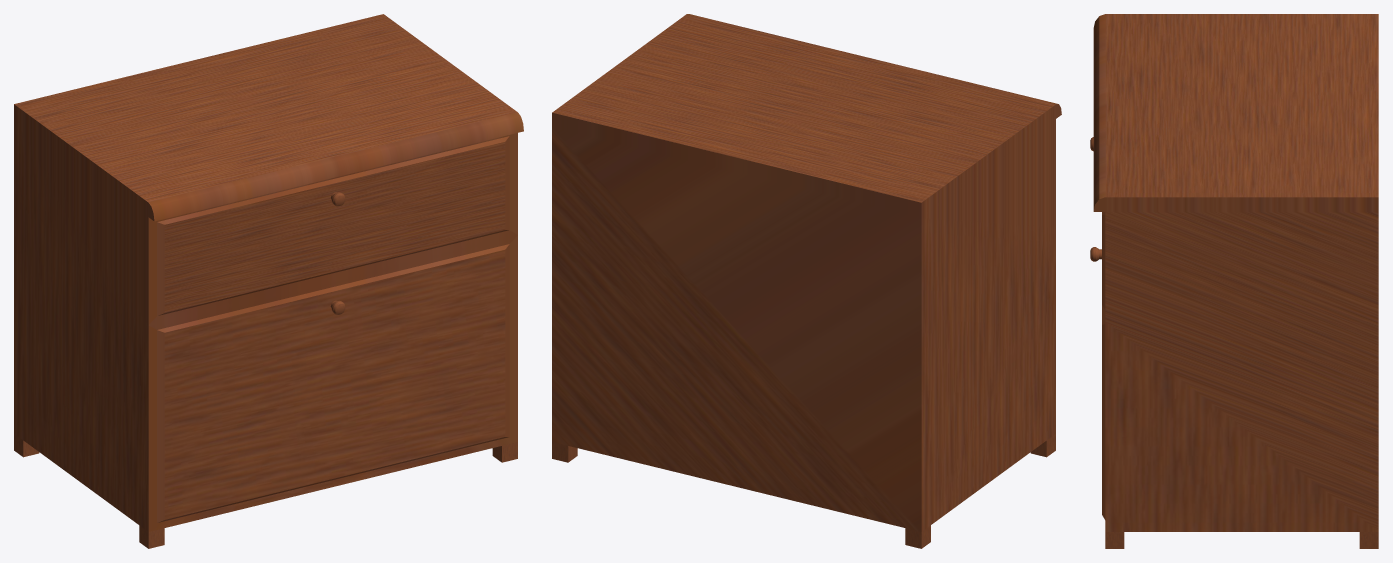
File: K_chenschrank_Schubf_cher_1.fbx
The picture shows the model from 3 angles, left to right: view 1: azimuth 30°, elevation 25°; view 2: azimuth 150°, elevation 25°; view 3: azimuth 270°, elevation 25°; orthographic projection.
Parts seen in each view (by area): view 1: Küchenschrank Schubfächer 1m; view 2: Küchenschrank Schubfächer 1m; view 3: Küchenschrank Schubfächer 1m.
Part boxes in pixels (x1,y1,x2,y2): Küchenschrank Schubfächer 1m: [14, 14, 523, 548]; Küchenschrank Schubfächer 1m: [552, 14, 1061, 548]; Küchenschrank Schubfächer 1m: [1090, 14, 1378, 548].
Bounding box in the file's own units: 1 × 0.8954 × 0.6655.
